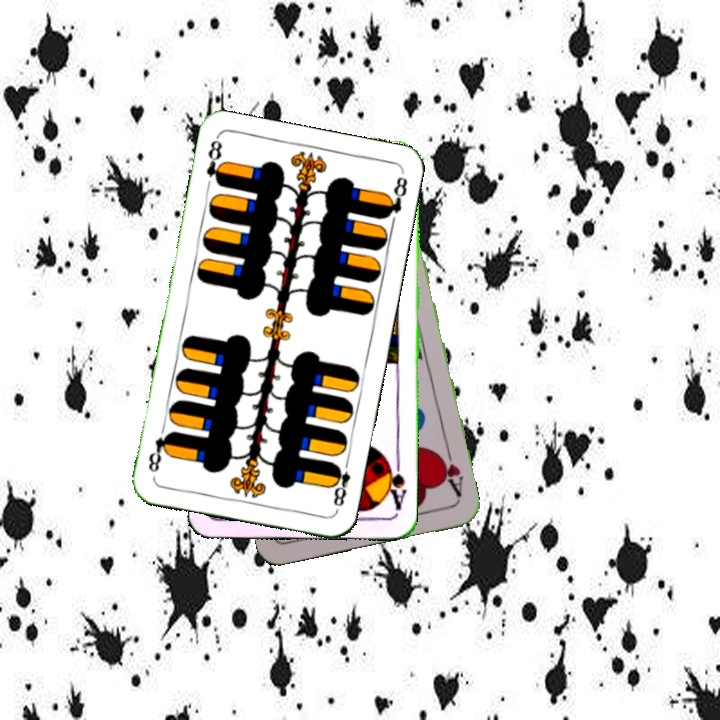E8: (326, 455, 353, 509), (202, 134, 227, 189)
HA: (433, 443, 467, 500)
SA: (382, 455, 409, 513)
